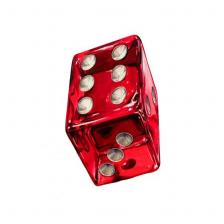red: (70, 54, 158, 172)
